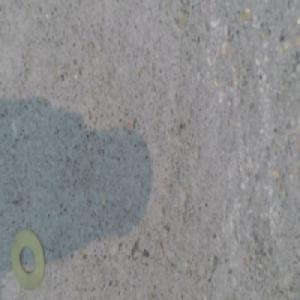Washer: (10, 228, 44, 288)
